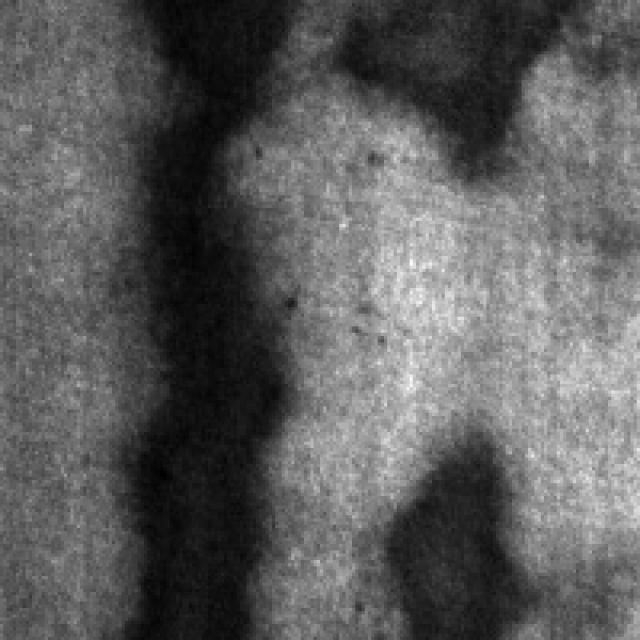patches: (115, 141, 291, 634), (343, 0, 589, 166), (390, 422, 550, 637), (144, 0, 307, 182)
